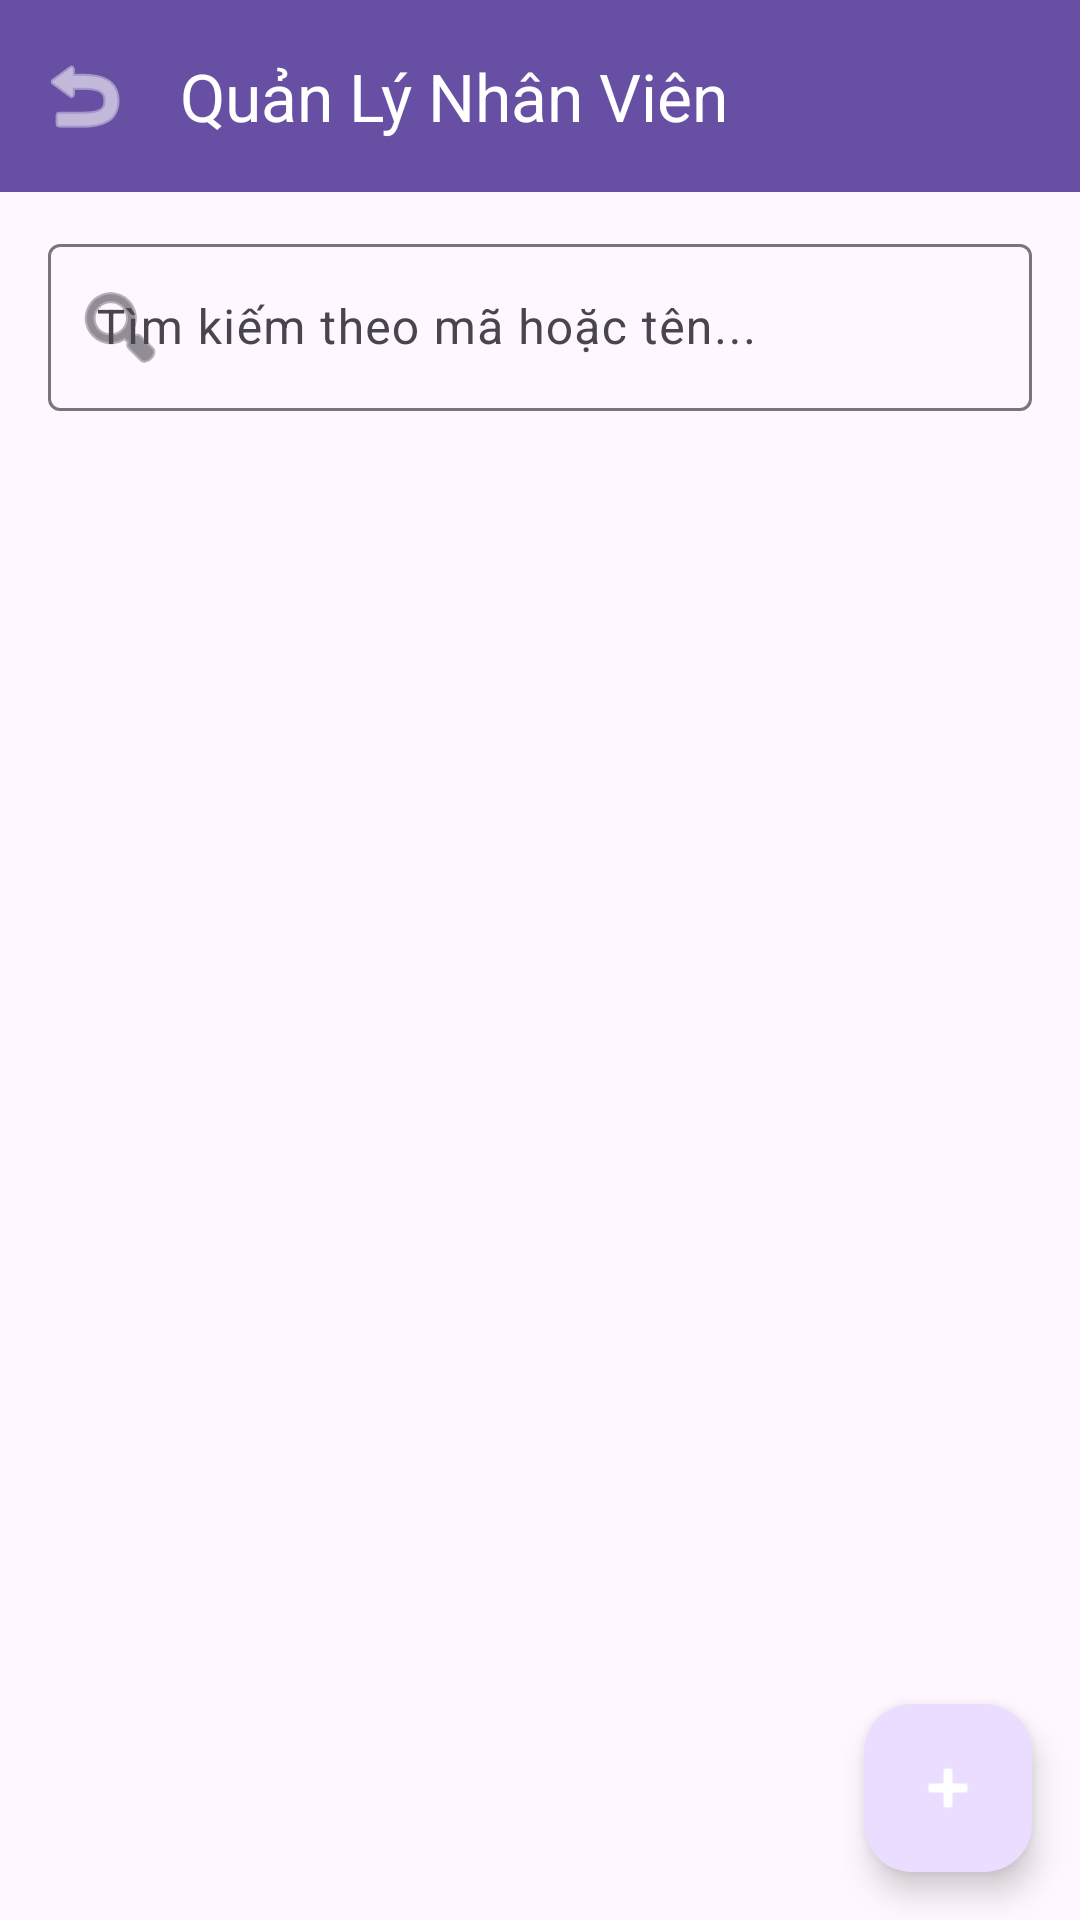

Icon bounding boxes for this 1080 x 1920 phone screenshot, format region(x1, y1, x2, y2):
Thêm nhân viên: region(864, 1704, 1032, 1872)
